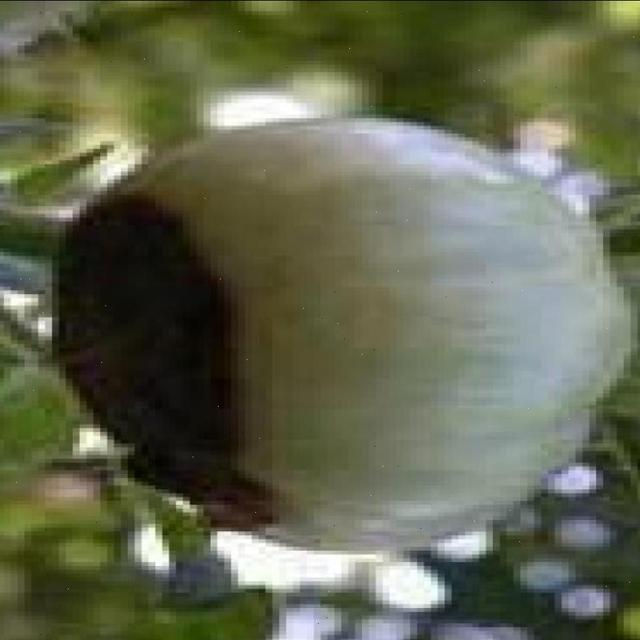Blossom End Rot Fruit: (39, 130, 191, 360)
